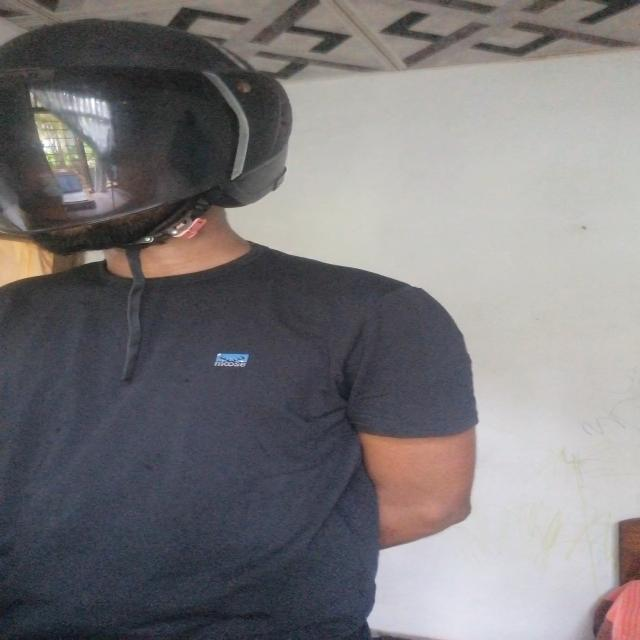Helmet_Wearer: (0, 20, 326, 297)
Person: (0, 18, 495, 640)
